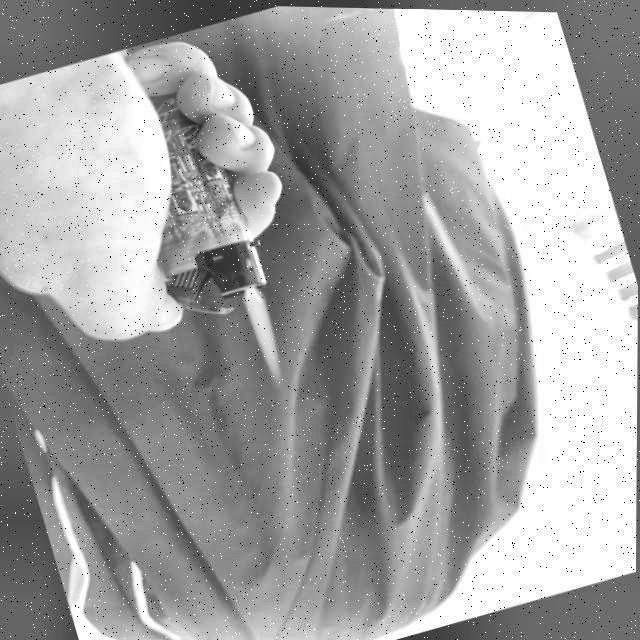Fire: (235, 287, 286, 381)
